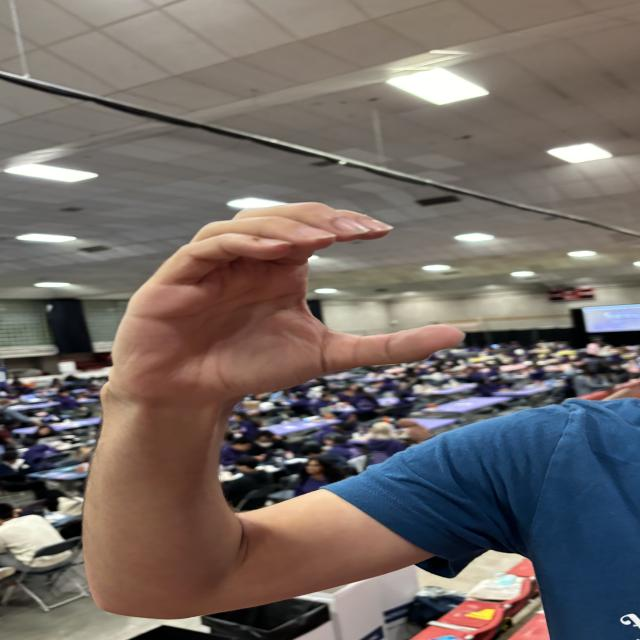C: (98, 187, 478, 394)
